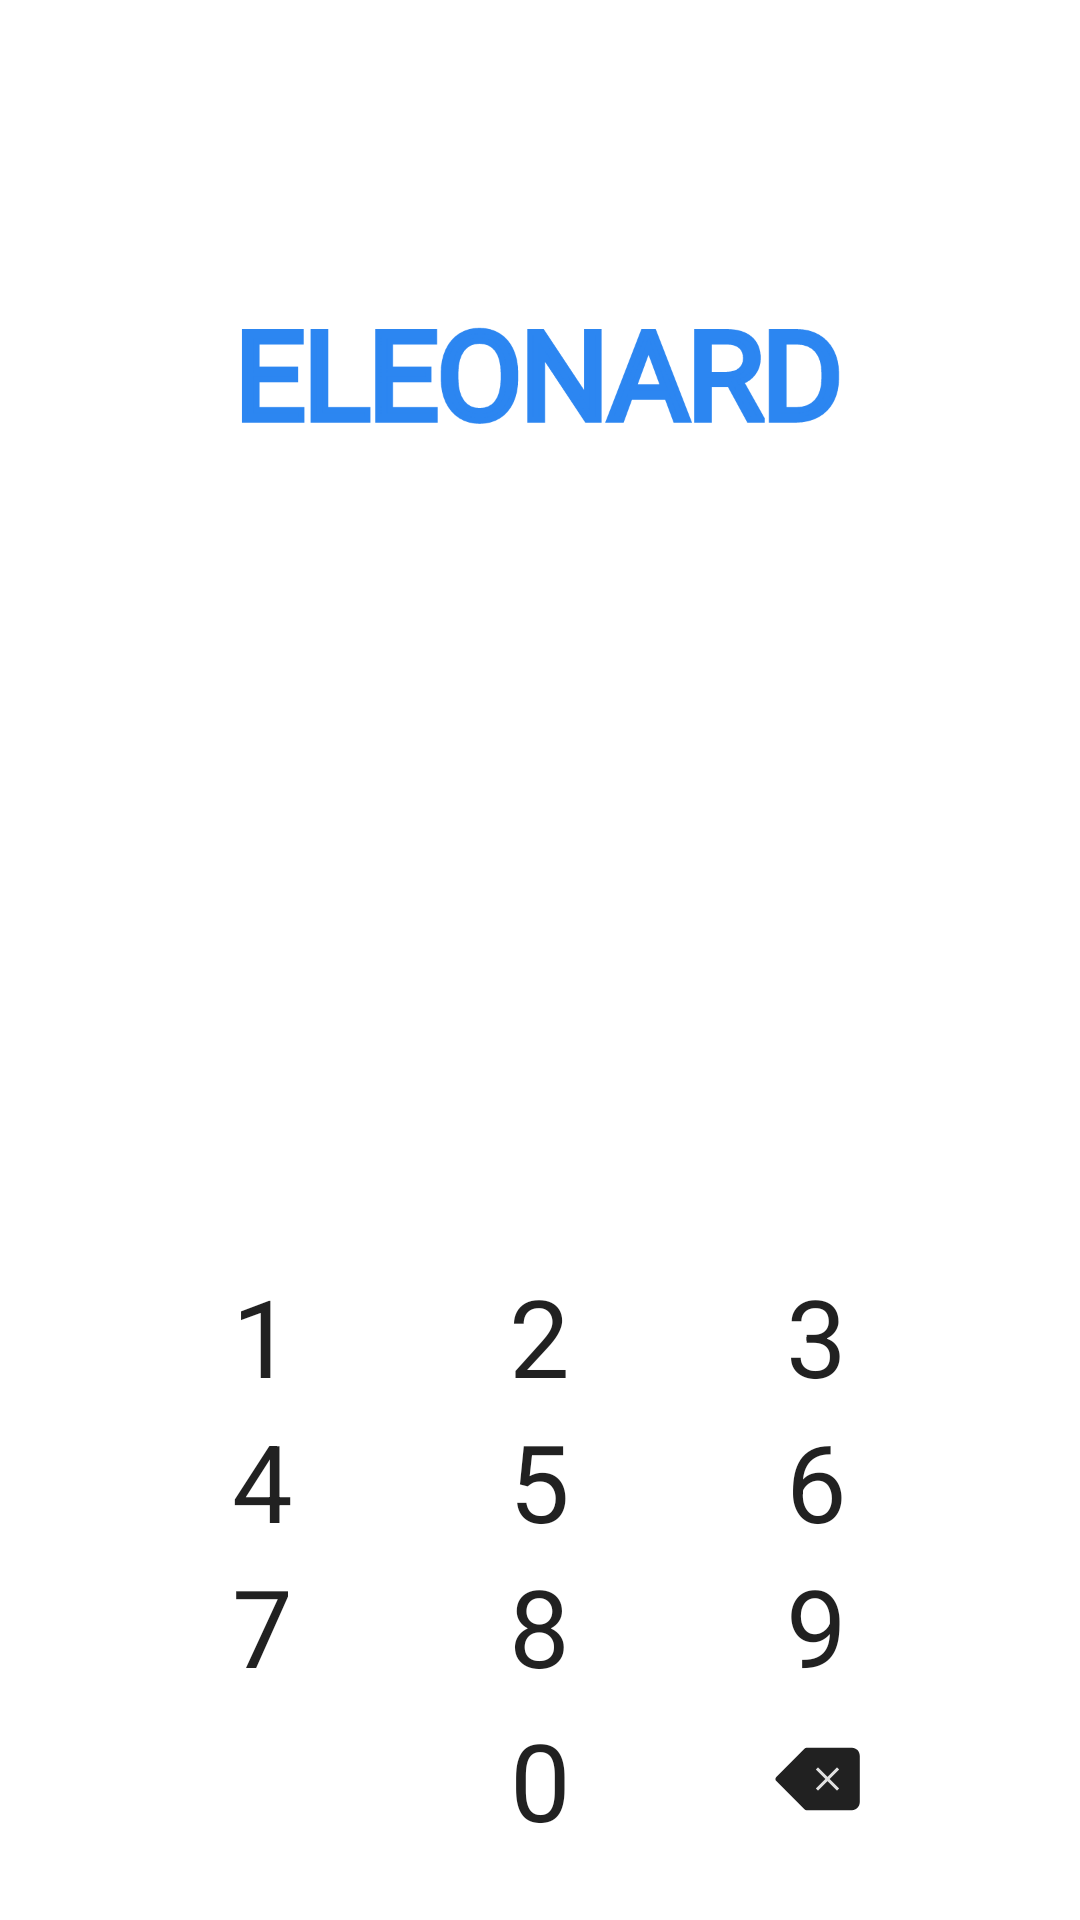

Locate icon controls on the screen. Image size 1080*1920, boxes as (x1, y1, x2, y2).
remove symbol: (775, 1747, 860, 1811)
